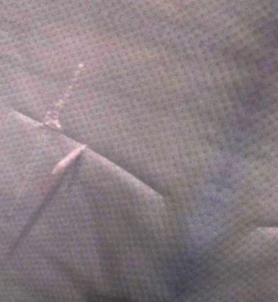snag: (43, 137, 100, 180)
